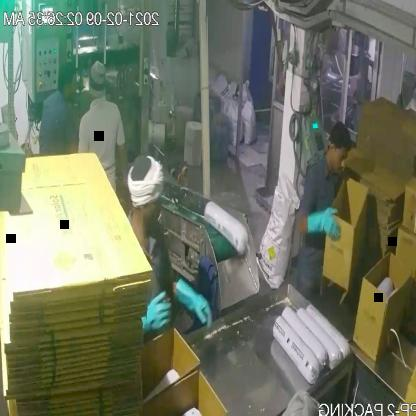glove: (174, 266, 216, 336), (132, 283, 172, 348), (302, 195, 343, 251)
no_glove: (116, 135, 132, 183)
